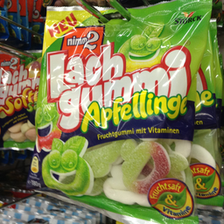candy: (32, 3, 200, 219)
